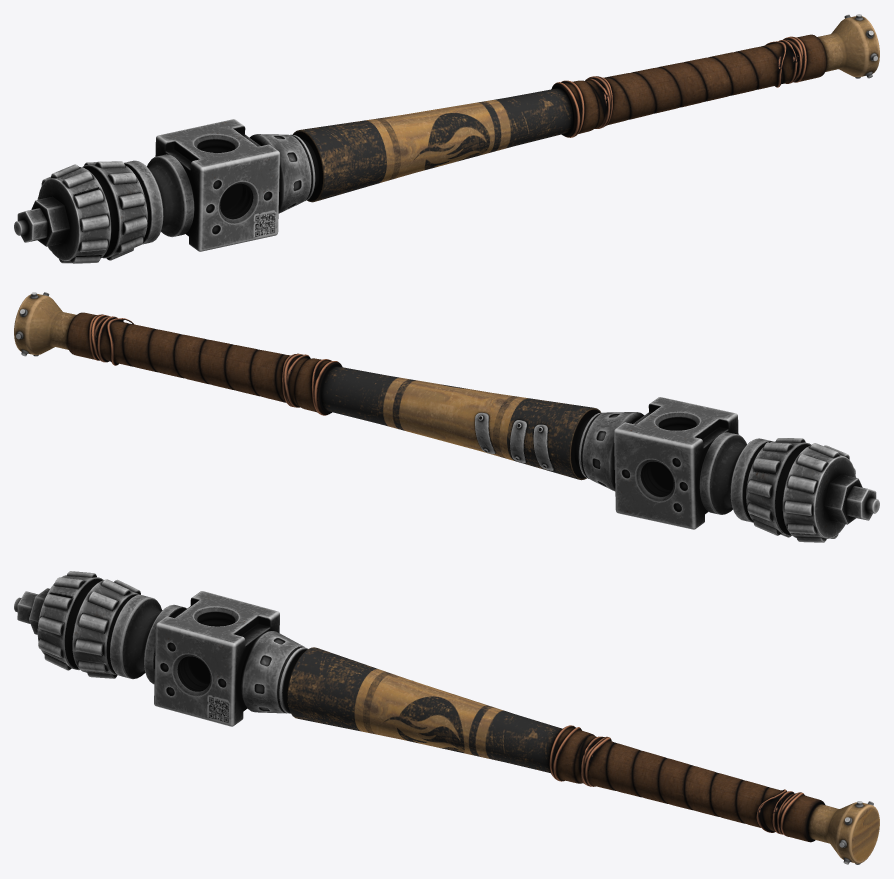
The model's file is torch.glb.
The picture shows the model from 3 angles, top to bottom: view 1: azimuth 30°, elevation 25°; view 2: azimuth 150°, elevation 25°; view 3: azimuth 330°, elevation 25°; orthographic projection.
Visible parts, largest first — view 1: Cylinder.022; view 2: Cylinder.022; view 3: Cylinder.022.
Boxes of the visible parts, <box> form: Cylinder.022: <box>14,14,879,263</box>; Cylinder.022: <box>14,292,879,542</box>; Cylinder.022: <box>14,571,879,864</box>.
Size of the model in its own units: 483 by 53.07 by 50.16.
Materials: 1 (1 with a texture image).
